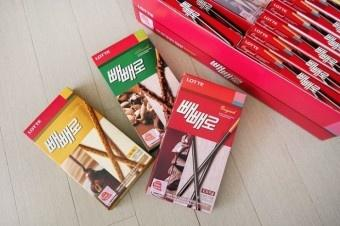snack: (20, 86, 154, 210), (143, 71, 248, 214), (91, 27, 181, 152)
